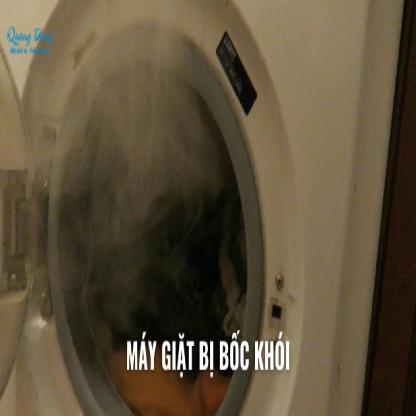smoke: (0, 0, 239, 327)
